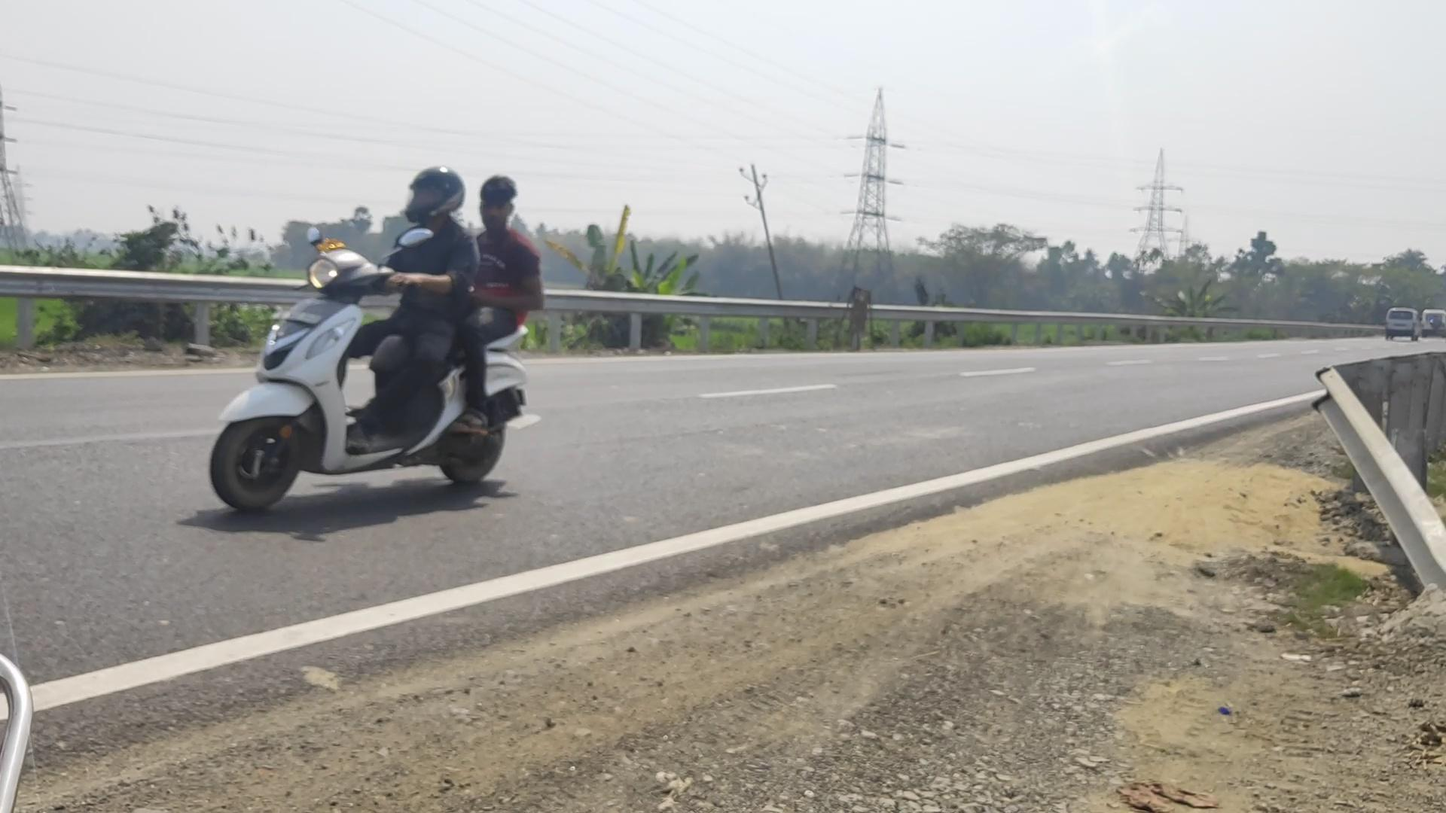bike: (212, 166, 542, 513)
car: (1385, 307, 1423, 342), (1421, 309, 1446, 339)
